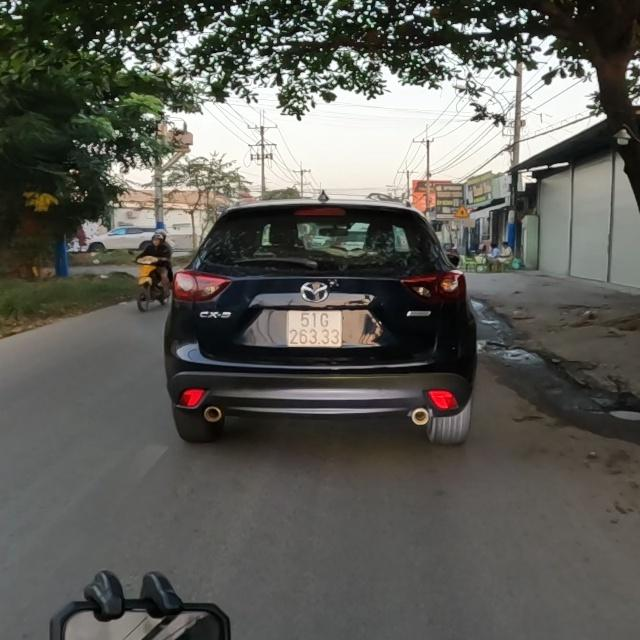license-plate: (284, 307, 346, 350)
